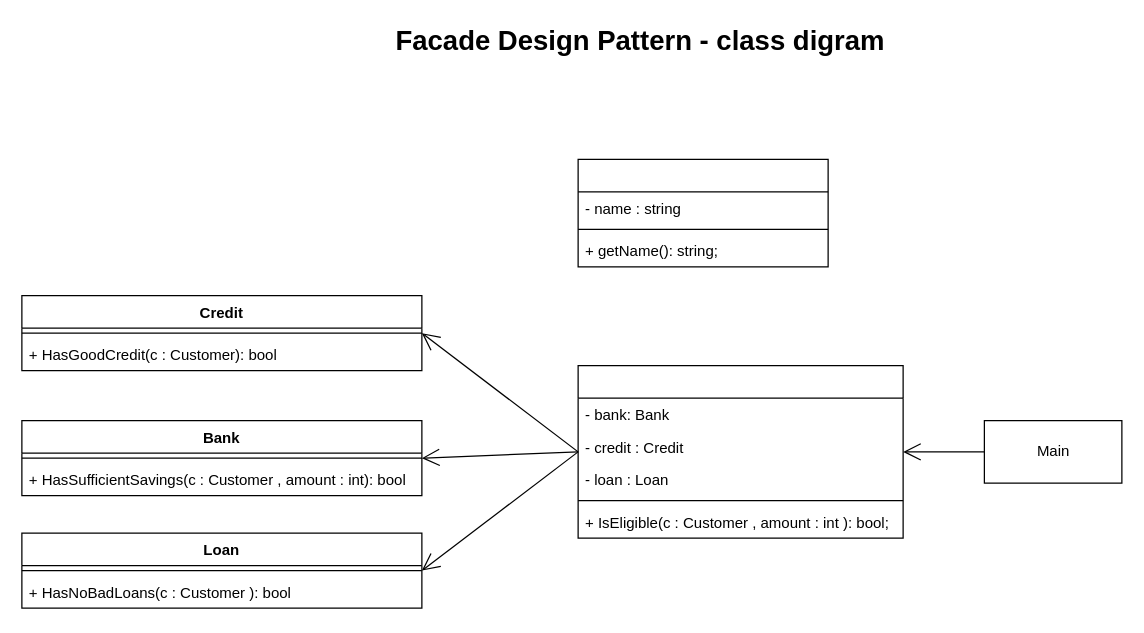
The diagram is 1144 pixels wide and 633 high, and some of its shapes have lost their labels. The shapes that lost their labels are listed below. From the top down, each one's box as (x1, y1, x2, y2) in pixels, then its label:
(577, 158, 828, 267): Customer
(577, 364, 903, 538): Mortgage
